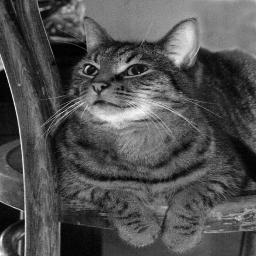catnose: (90, 82, 109, 93)
